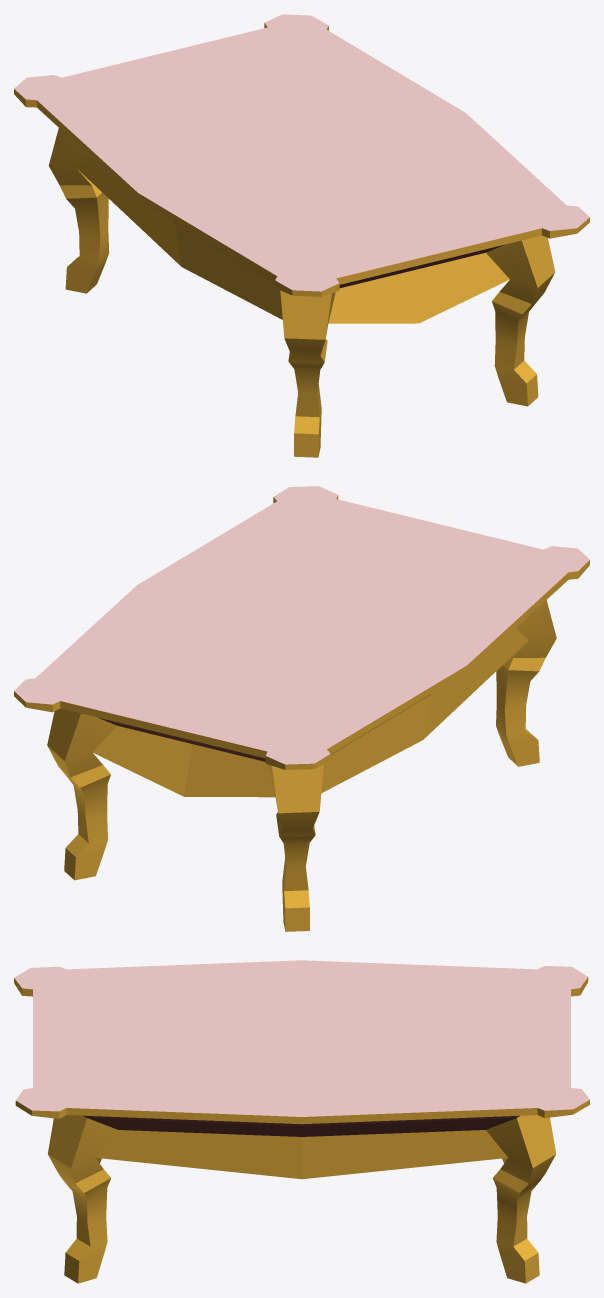
Rendered from Mesa rustica.fbx.
3 renders of one model, top to bottom at view 1: azimuth 30°, elevation 25°; view 2: azimuth 150°, elevation 25°; view 3: azimuth 270°, elevation 25°, orthographic. The views are drawn at different scales.
Visible parts, largest first — view 1: Cube; view 2: Cube; view 3: Cube.
Part boxes in pixels (<box>): Cube: <box>14,14,589,457</box>; Cube: <box>14,486,589,931</box>; Cube: <box>14,960,589,1283</box>.
Bounding box in the file's own units: 147 × 81.36 × 228.
